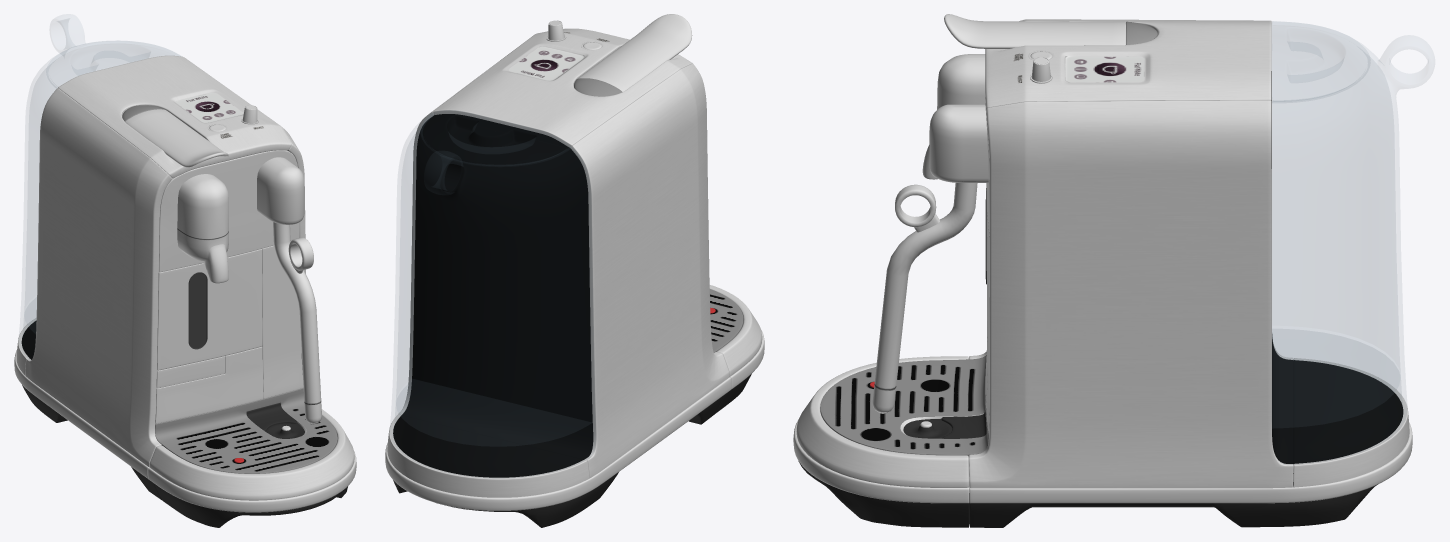
3 renders of one model, left to right at view 1: azimuth 30°, elevation 25°; view 2: azimuth 150°, elevation 25°; view 3: azimuth 270°, elevation 25°, orthographic. The views are drawn at different scales.
Parts seen in each view (by area): view 1: BNE800, BNE500_glass; view 2: BNE800, BNE500_glass; view 3: BNE800, BNE500_glass.
Boxes of the visible parts, x1,y1,x2,y2 form: BNE800: [14, 55, 356, 527]; BNE500_glass: [22, 18, 179, 338]; BNE800: [385, 14, 764, 527]; BNE500_glass: [393, 113, 591, 446]; BNE800: [793, 14, 1412, 527]; BNE500_glass: [1272, 21, 1428, 428].
Bounding box in the file's own units: 0.1707 × 0.3135 × 0.4093.
Materials: 2 (2 with a texture image).
